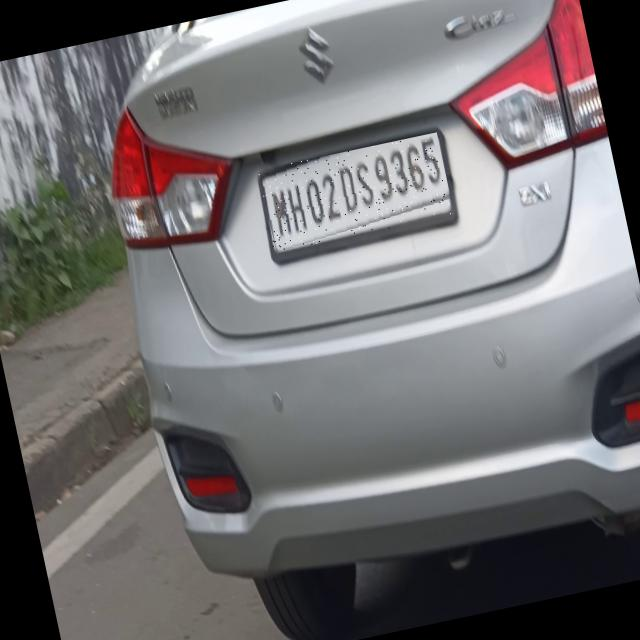Plate: (258, 133, 455, 253)
